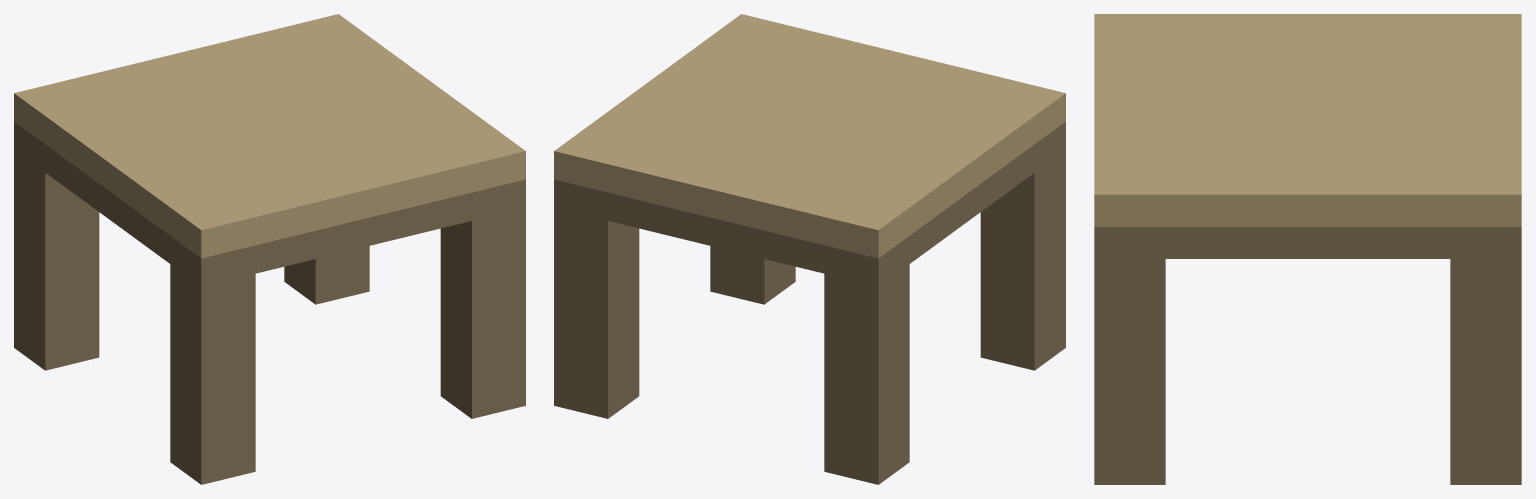
File: atril_ofrendas_01.glb
3 views of the same model, side by side, from view 1: azimuth 30°, elevation 25°; view 2: azimuth 150°, elevation 25°; view 3: azimuth 270°, elevation 25° (orthographic). The views are drawn at different scales.
Visible parts, largest first — view 1: atril_ofrendas; view 2: atril_ofrendas; view 3: atril_ofrendas.
Part boxes in pixels (box(x1,y1,x2,y2)): atril_ofrendas: box(14, 14, 525, 484); atril_ofrendas: box(554, 14, 1065, 484); atril_ofrendas: box(1094, 14, 1521, 484).
Bounding box in the file's own units: 1 × 0.75 × 1.
